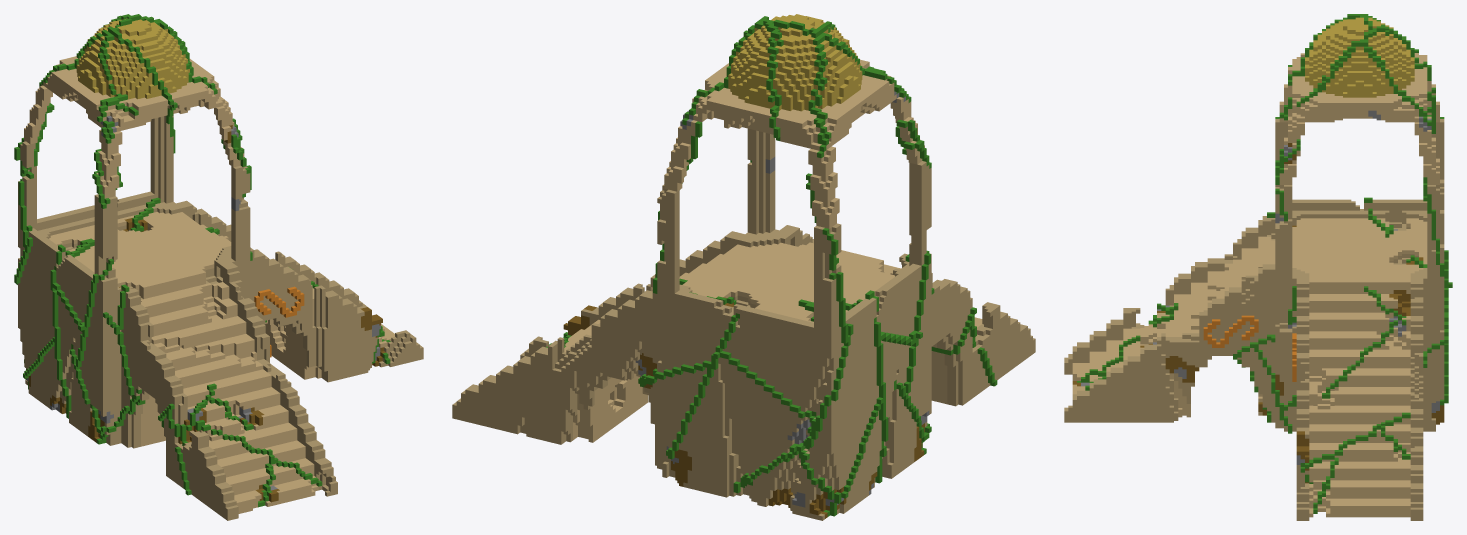
The model's file is building2.obj.
3 renders of one model, left to right at view 1: azimuth 30°, elevation 25°; view 2: azimuth 150°, elevation 25°; view 3: azimuth 270°, elevation 25°, orthographic. The views are drawn at different scales.
Bounding box in the file's own units: 9.2 × 9.8 × 9.2.
Materials: 1 (1 with a texture image).
